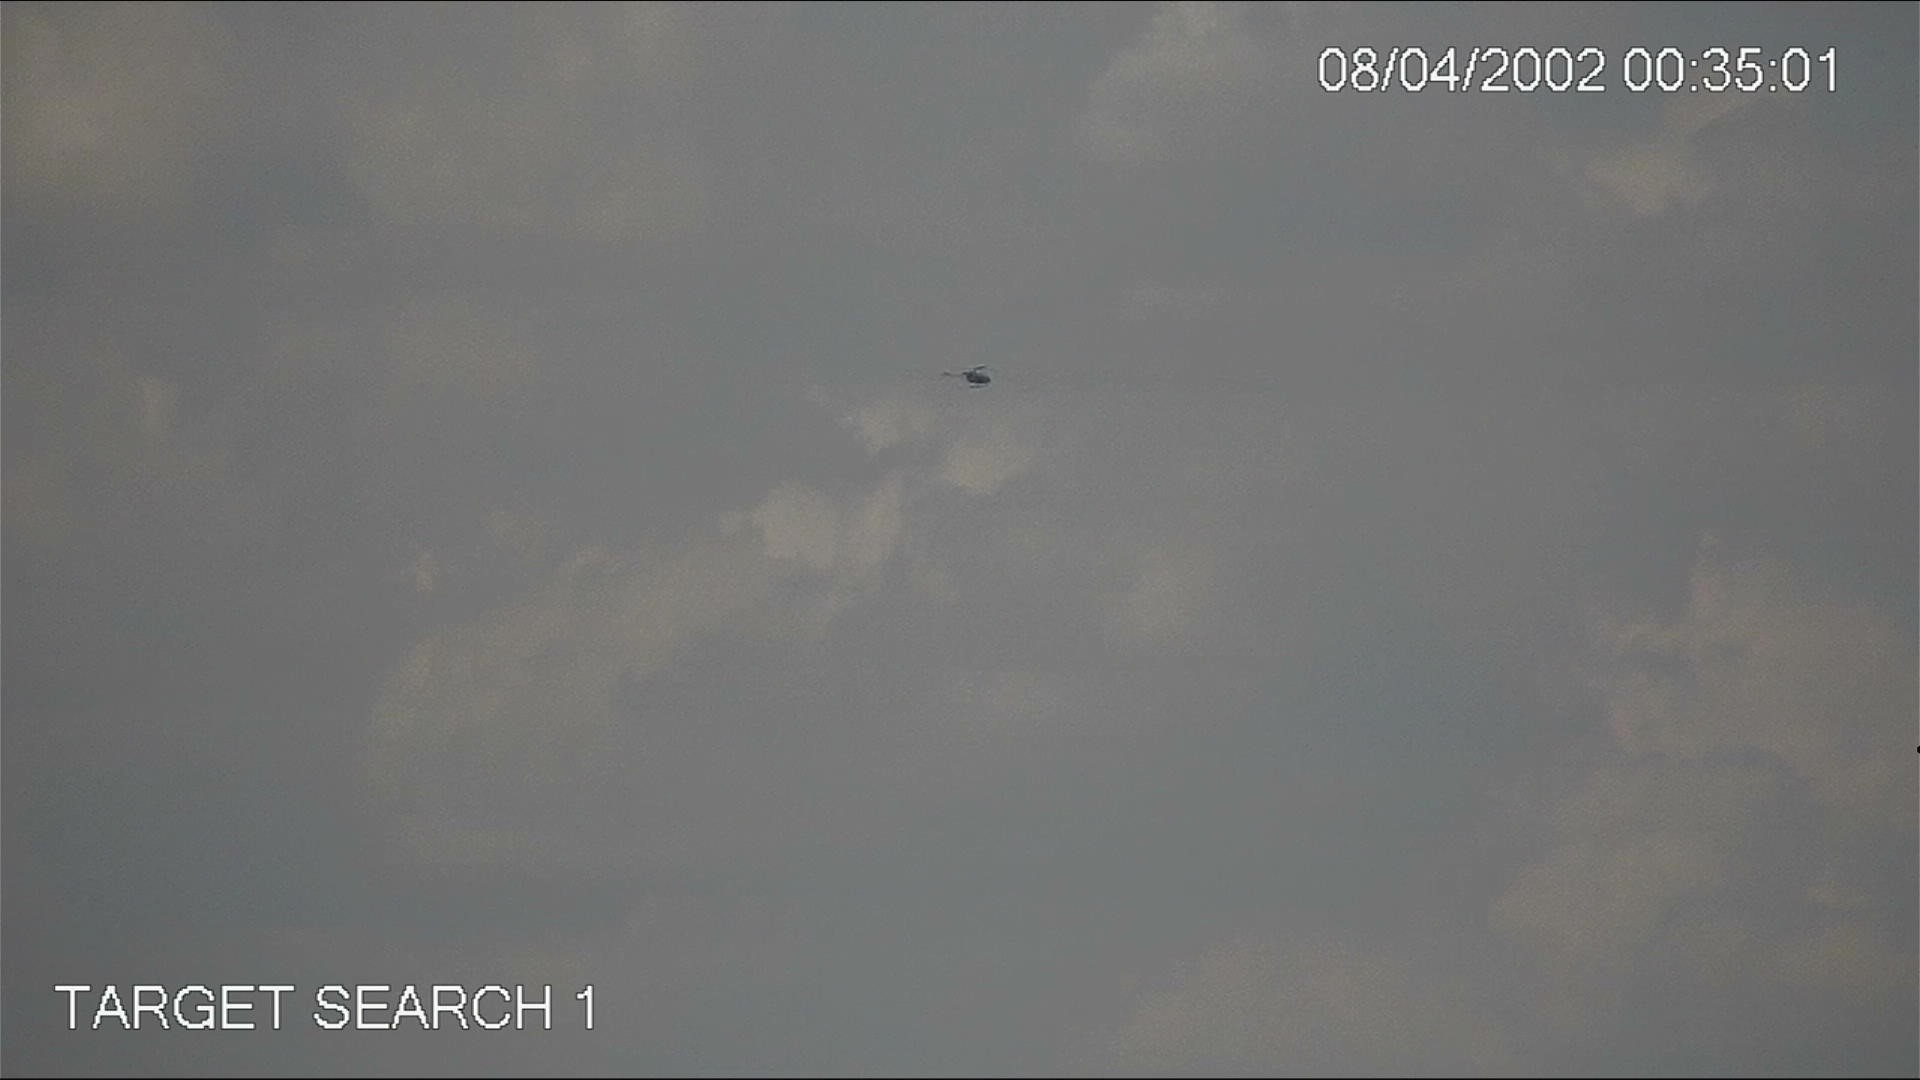SU_30: (939, 363, 996, 390)
